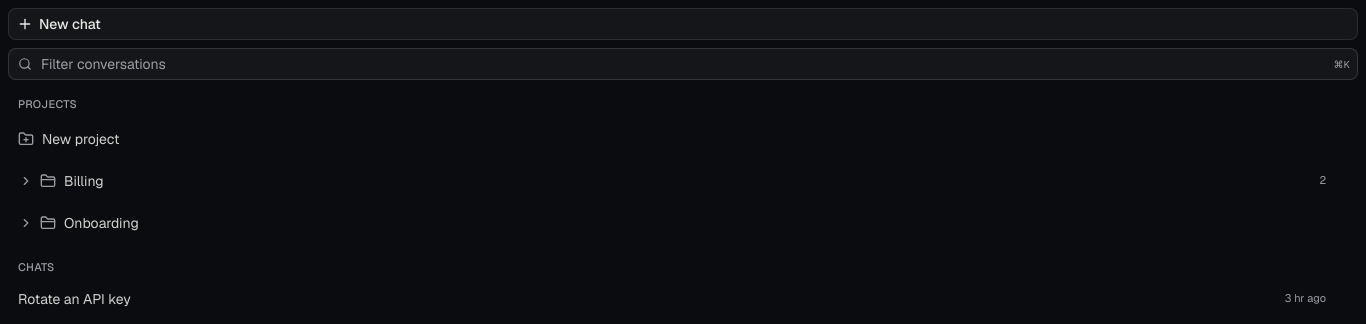
Scenario: projects in the chat sidebar › shows the folders that match a filter, open, with only the matching chats
Type "invoices" into the search field labelled "Filter conversations" at [683, 64], box x1=8 y1=48 x2=1358 y2=80
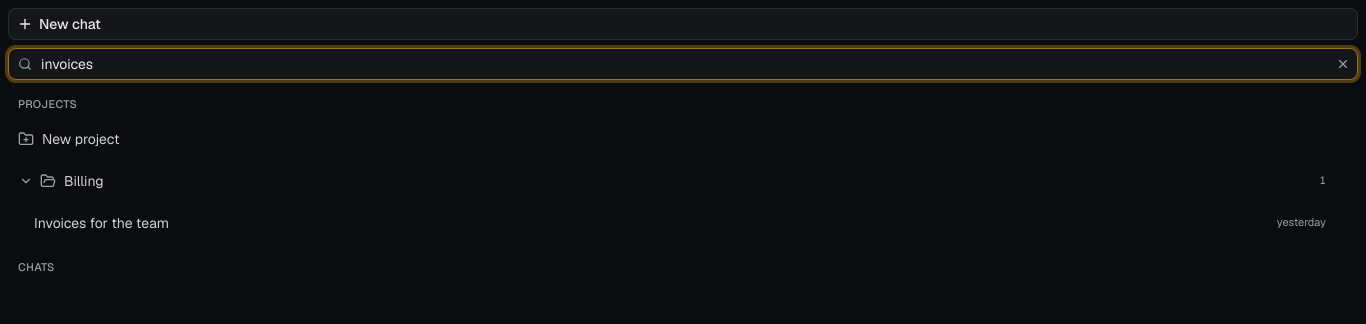
Expected: the number of list items with test id "project-folder" is 1, x1=8 y1=160 x2=1358 y2=242
